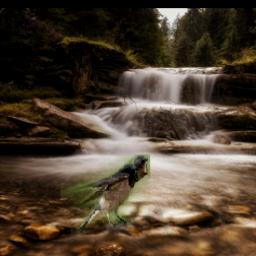Swallow: (62, 155, 151, 234)
